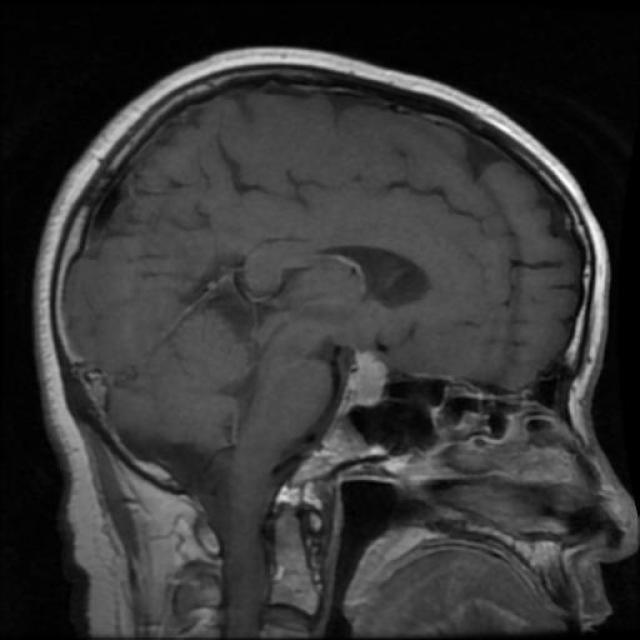pituitary: (277, 331, 397, 511)
